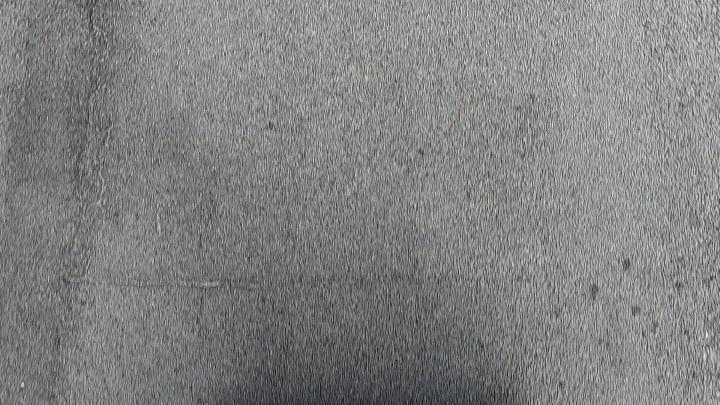Crack: (75, 0, 122, 218), (113, 261, 266, 292), (120, 267, 263, 288), (83, 0, 106, 124), (95, 127, 114, 211)
